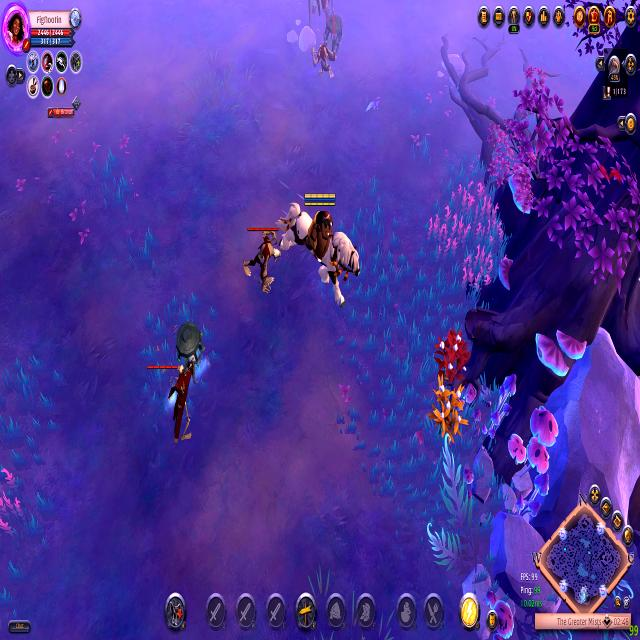hide: (426, 375, 469, 462), (431, 326, 472, 391)
ore: (141, 353, 210, 452), (241, 219, 287, 306), (307, 38, 339, 82), (297, 0, 340, 31)
red: (277, 184, 366, 318)
